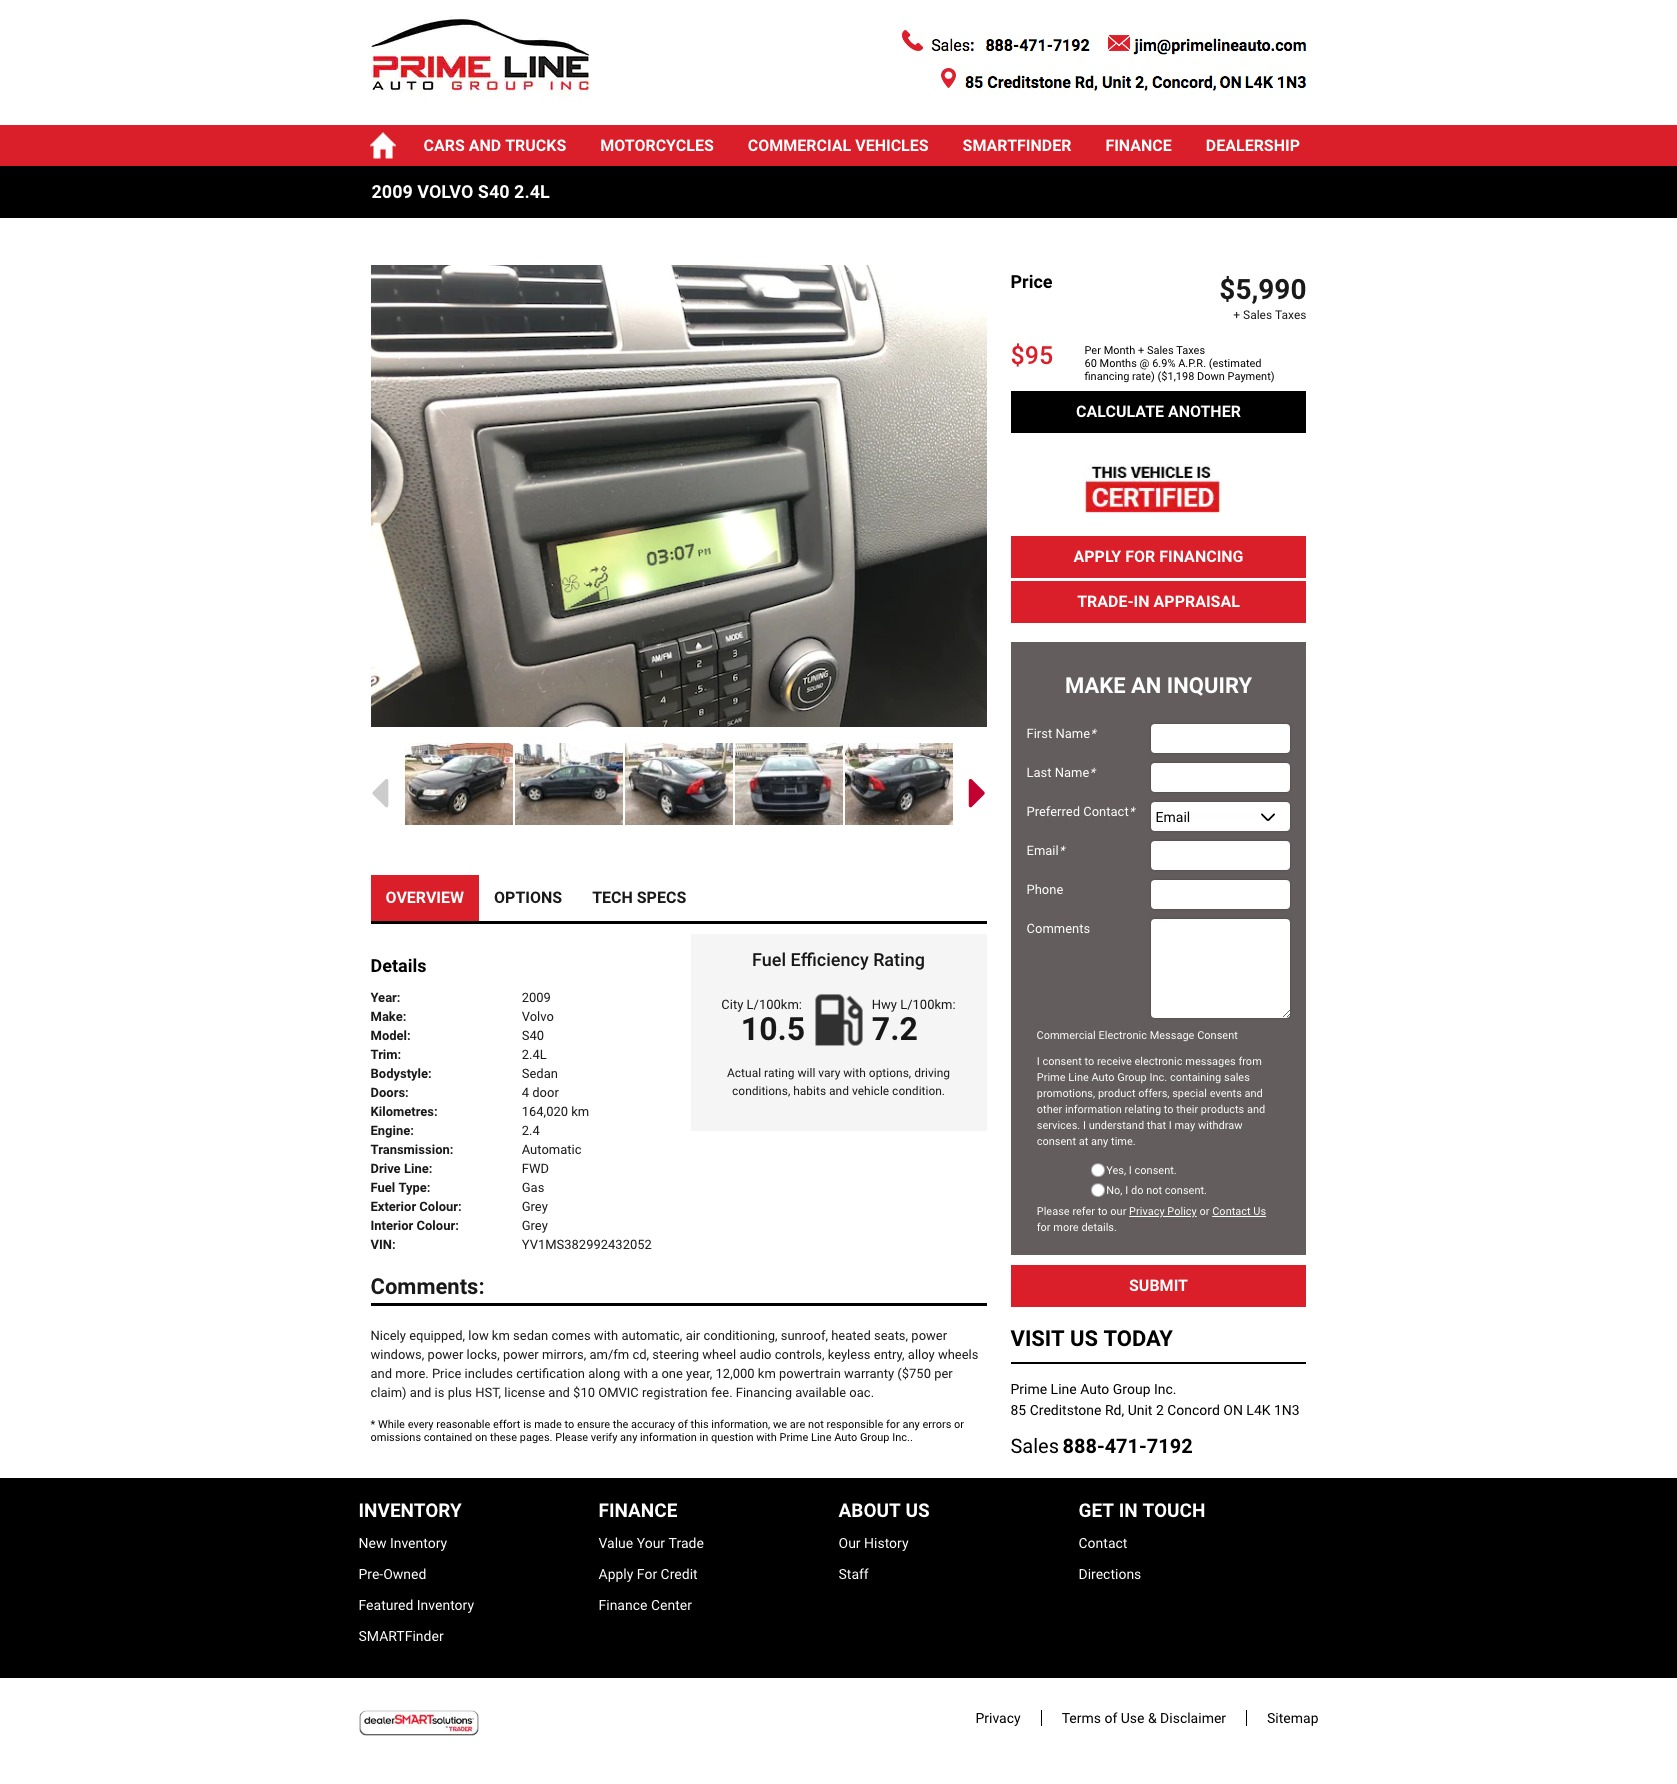car: (968, 779, 987, 810)
